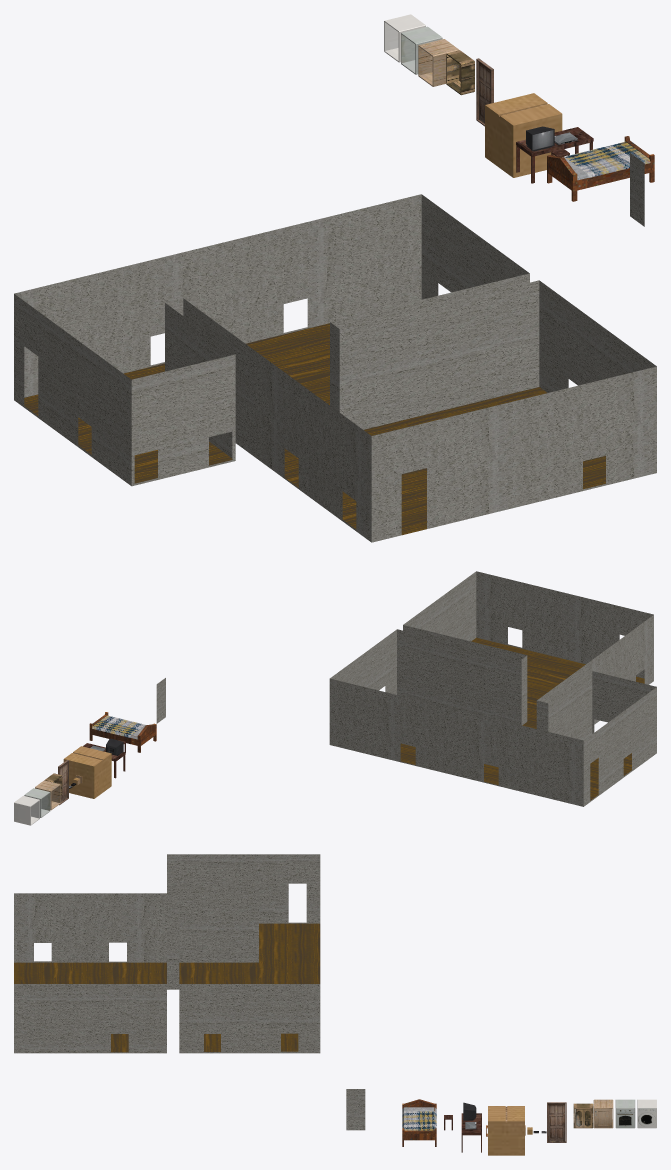
The picture shows the model from 3 angles, top to bottom: view 1: azimuth 30°, elevation 25°; view 2: azimuth 150°, elevation 25°; view 3: azimuth 270°, elevation 25°; orthographic projection. The views are drawn at different scales.
Visible parts, largest first — view 1: Room, BoxBig, Bed, KitchenBoxDown, KitchenBoxUp, OvenBox, Table, WashingMachine, WallHider; view 2: Room, BoxBig, Bed, WashingMachine, WallHider, OvenBox, KitchenBoxDown; view 3: Room, BoxBig, Bed, WallHider, Door.
Boxes of the visible parts, box(x1,y1,x2,y2) form: Room: box(14, 194, 656, 542); BoxBig: box(485, 93, 562, 177); Bed: box(547, 136, 654, 201); KitchenBoxDown: box(418, 39, 458, 86); KitchenBoxUp: box(446, 50, 474, 95); OvenBox: box(401, 26, 442, 74); Table: box(516, 127, 593, 183); WashingMachine: box(384, 14, 425, 62); WallHider: box(630, 153, 644, 226); Room: box(329, 571, 656, 806); BoxBig: box(63, 746, 111, 798); Bed: box(89, 712, 156, 752); WashingMachine: box(14, 795, 39, 825); WallHider: box(156, 678, 165, 723); OvenBox: box(24, 788, 50, 817); KitchenBoxDown: box(35, 780, 60, 810); Room: box(14, 854, 320, 1053); BoxBig: box(488, 1106, 524, 1155); Bed: box(402, 1099, 436, 1146); WallHider: box(346, 1089, 365, 1130); Door: box(548, 1103, 565, 1142).
Bounding box in the file's own units: 34.53 × 6.2 × 41.99.
9 materials, 9 textured.
